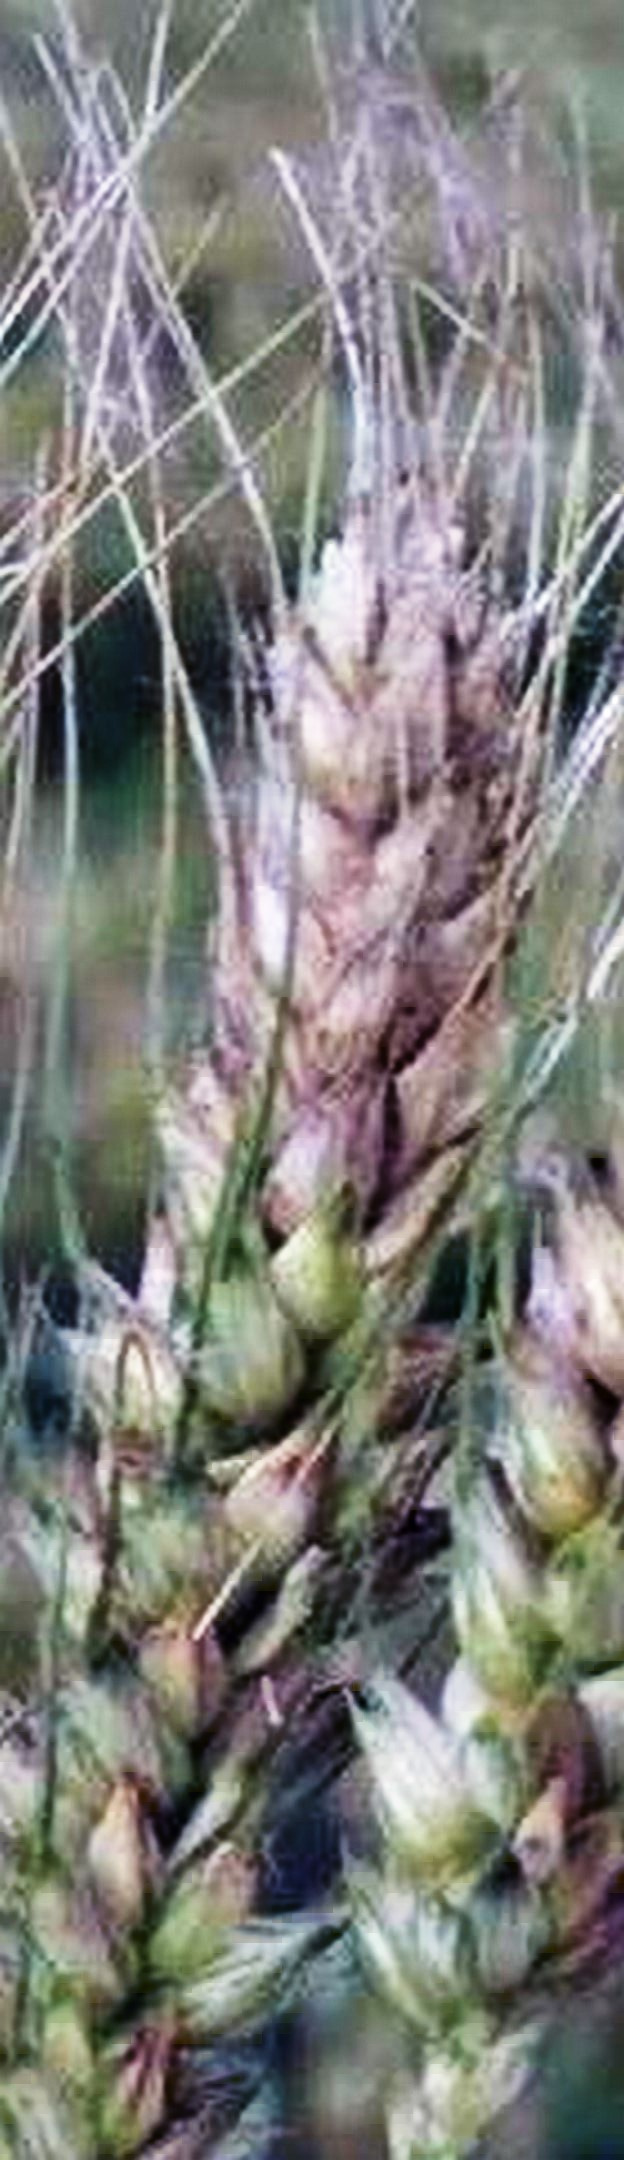Wheat scab: (41, 470, 624, 2075)
